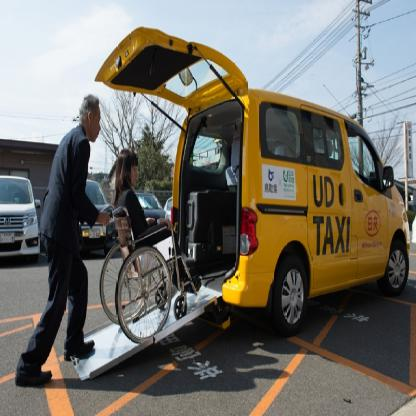wheelchair: (98, 146, 203, 343)
